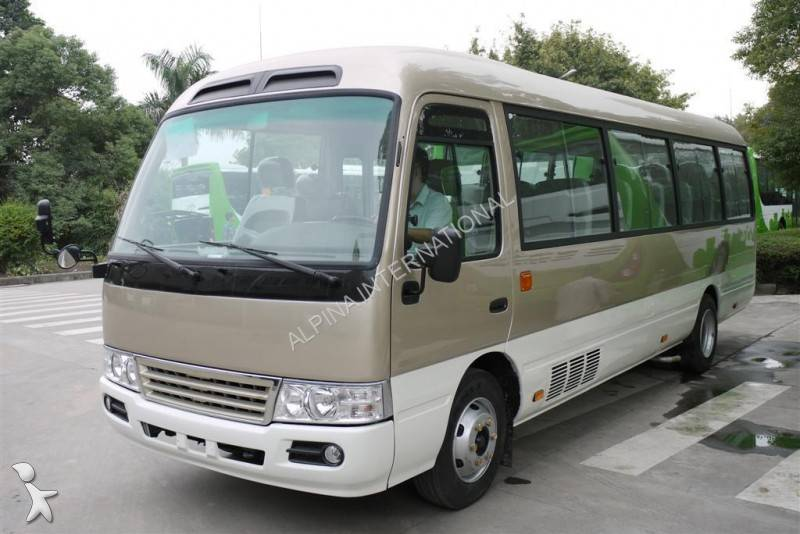midcar: (81, 36, 779, 509)
